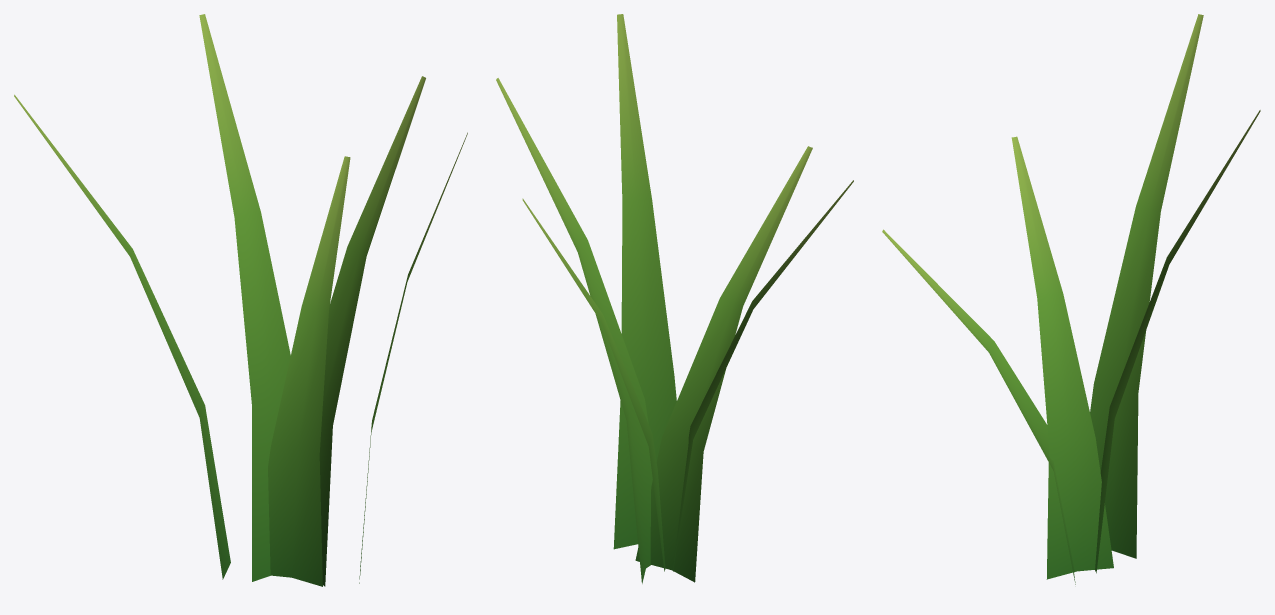
Rendered from iarba_smoc.glb.
3 views of the same model, side by side, from view 1: azimuth 30°, elevation 25°; view 2: azimuth 150°, elevation 25°; view 3: azimuth 270°, elevation 25° (orthographic). The views are drawn at different scales.
Parts seen in each view (by area): view 1: iarba_smoc; view 2: iarba_smoc; view 3: iarba_smoc.
Boxes of the visible parts, left/top/right/bottom form: iarba_smoc: left=14, top=14, right=467, bottom=586; iarba_smoc: left=496, top=14, right=853, bottom=583; iarba_smoc: left=882, top=14, right=1260, bottom=584.
Size of the model in its own units: 0.2622 by 0.3401 by 0.2503.
